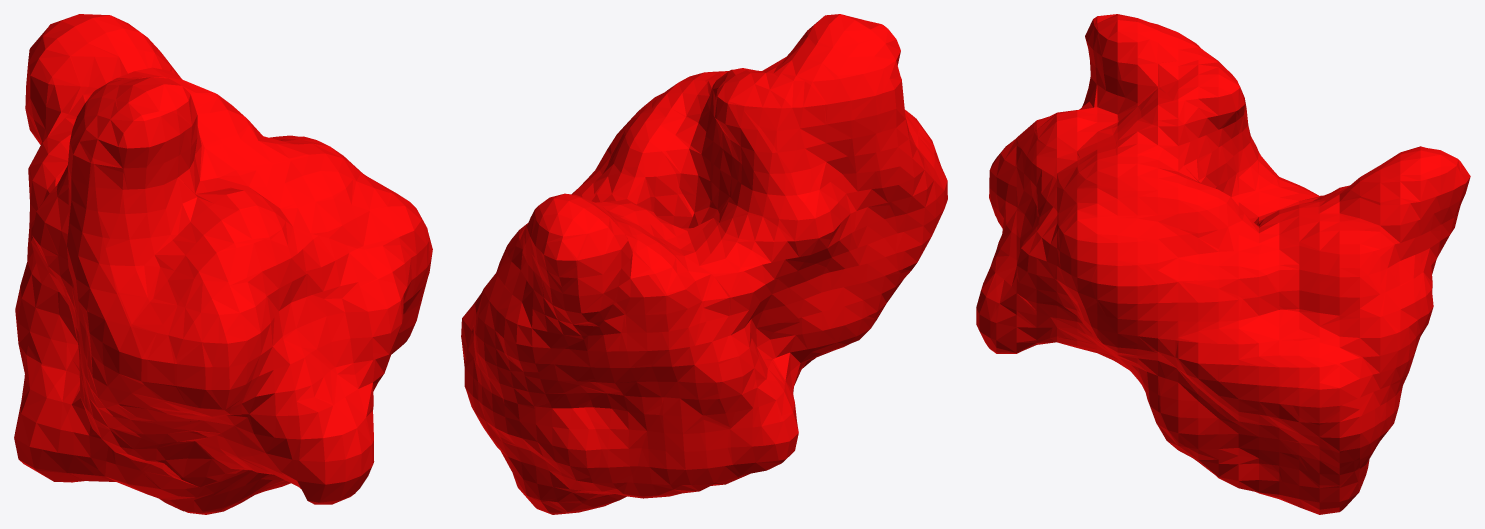
Rendered from wbbI_coarse.dae.
3 renders of one model, left to right at view 1: azimuth 30°, elevation 25°; view 2: azimuth 150°, elevation 25°; view 3: azimuth 270°, elevation 25°, orthographic. The views are drawn at different scales.
Visible parts, largest first — view 1: wbbI; view 2: wbbI; view 3: wbbI.
Part boxes in pixels (box(x1,y1,x2,y2)): wbbI: box(14, 14, 432, 514); wbbI: box(461, 14, 947, 514); wbbI: box(976, 14, 1470, 514).
Size of the model in its own units: 49.5 by 64.02 by 68.72.
